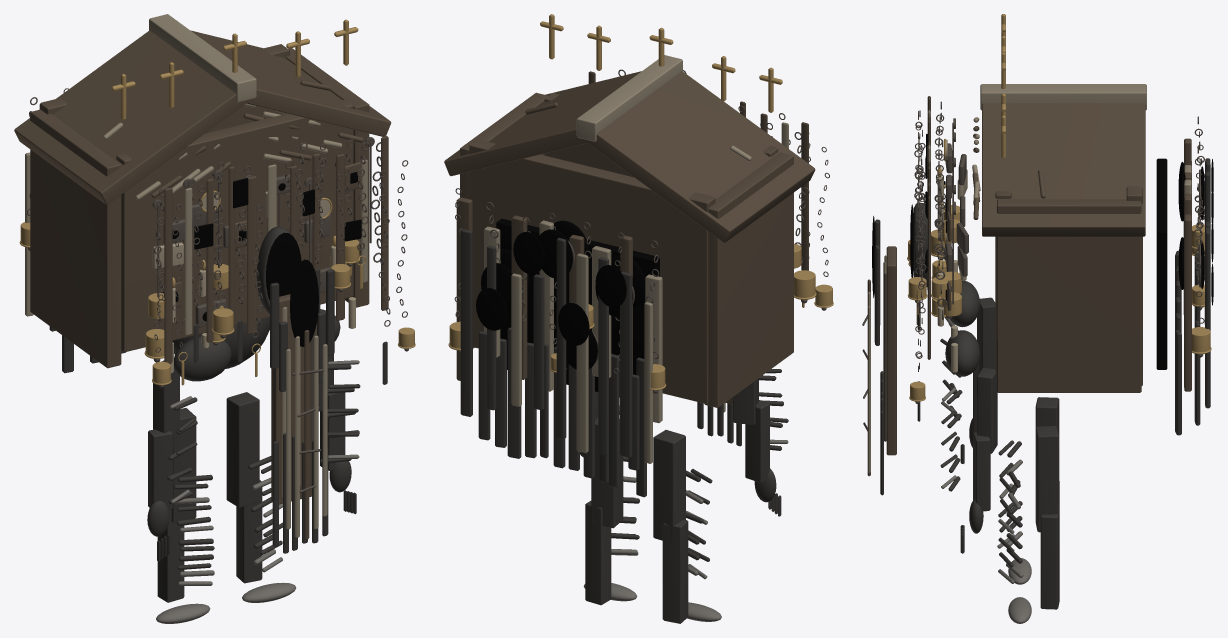
The model's file is penance_carrier_end_goal_v8_balanced_end_goal.glb.
3 renders of one model, left to right at view 1: azimuth 30°, elevation 25°; view 2: azimuth 150°, elevation 25°; view 3: azimuth 270°, elevation 25°, orthographic. The views are drawn at different scales.
Visible parts, largest first — view 1: PC_V4_shrine_front_rotten_wall, PC_V4_roof_left_steep_slab, PC_V4_shrine_left_side_wall, PC_V4_roof_right_steep_slab, PC_V6_right_wrapped_thigh, PC_V4_roof_ridge_heavy_rot, PC_V6_long_door_mask_front, PC_V4_shrine_right_side_wall, PC_V8_head_black_inner_void, PC_V6_right_wrapped_shin, PC_V4_left_long_forearm_wrapped, PC_V4_left_shoulder_under_mask (+32 smaller); view 2: PC_V4_shrine_rear_rotten_wall, PC_V4_roof_left_steep_slab, PC_V4_shrine_left_side_wall, PC_V4_roof_right_steep_slab, PC_V4_back_black_rotten_hollow, PC_V6_left_wrapped_thigh, PC_V4_roof_ridge_heavy_rot, PC_V6_left_wrapped_shin, PC_V8_back_rotten_rib_08, PC_V6_right_wrapped_shin, PC_V8_back_rotten_rib_01, PC_V8_back_rotten_rib_03 (+40 smaller); view 3: PC_V4_shrine_right_side_wall, PC_V4_roof_right_steep_slab, PC_V4_roof_ridge_heavy_rot, PC_V4_back_black_rotten_hollow, PC_V6_right_wrapped_thigh, PC_V6_long_door_mask_front, PC_V6_right_wrapped_shin, PC_V4_right_long_upper_arm_wrapped, PC_V5_back_rotten_vertical_plank_07, PC_V4_right_long_forearm_wrapped, PC_V4_left_long_upper_arm_wrapped, PC_V4_right_shoulder_under_mask (+12 smaller).
Part boxes in pixels (bbox=[...]): PC_V4_shrine_front_rotten_wall: bbox=[116, 99, 353, 352]; PC_V4_roof_left_steep_slab: bbox=[14, 30, 250, 204]; PC_V4_shrine_left_side_wall: bbox=[30, 109, 121, 368]; PC_V4_roof_right_steep_slab: bbox=[191, 30, 391, 136]; PC_V6_right_wrapped_thigh: bbox=[226, 392, 259, 507]; PC_V4_roof_ridge_heavy_rot: bbox=[149, 14, 256, 101]; PC_V6_long_door_mask_front: bbox=[271, 294, 316, 504]; PC_V4_shrine_right_side_wall: bbox=[286, 48, 369, 307]; PC_V8_head_black_inner_void: bbox=[290, 259, 318, 346]; PC_V6_right_wrapped_shin: bbox=[236, 480, 262, 583]; PC_V4_left_long_forearm_wrapped: bbox=[148, 429, 173, 509]; PC_V4_left_shoulder_under_mask: bbox=[174, 336, 231, 381]; PC_V4_shrine_rear_rotten_wall: bbox=[469, 139, 715, 403]; PC_V4_roof_left_steep_slab: bbox=[582, 71, 815, 242]; PC_V4_shrine_left_side_wall: bbox=[704, 152, 793, 407]; PC_V4_roof_right_steep_slab: bbox=[444, 71, 641, 176]; PC_V4_back_black_rotten_hollow: bbox=[496, 218, 659, 397]; PC_V6_left_wrapped_thigh: bbox=[653, 430, 685, 543]; PC_V4_roof_ridge_heavy_rot: bbox=[576, 55, 682, 141]; PC_V6_left_wrapped_shin: bbox=[662, 519, 688, 623]; PC_V8_back_rotten_rib_08: bbox=[460, 229, 472, 416]; PC_V6_right_wrapped_shin: bbox=[585, 501, 611, 605]; PC_V8_back_rotten_rib_01: bbox=[620, 271, 632, 457]; PC_V8_back_rotten_rib_03: bbox=[576, 253, 588, 453]; PC_V4_shrine_right_side_wall: bbox=[997, 199, 1141, 392]; PC_V4_roof_right_steep_slab: bbox=[982, 103, 1145, 236]; PC_V4_roof_ridge_heavy_rot: bbox=[980, 84, 1146, 110]; PC_V4_back_black_rotten_hollow: bbox=[1156, 158, 1167, 369]; PC_V6_right_wrapped_thigh: bbox=[1035, 426, 1059, 532]; PC_V6_long_door_mask_front: bbox=[886, 246, 896, 455]; PC_V6_right_wrapped_shin: bbox=[1040, 511, 1059, 609]; PC_V4_right_long_upper_arm_wrapped: bbox=[977, 368, 997, 453]; PC_V5_back_rotten_vertical_plank_07: bbox=[1184, 214, 1191, 391]; PC_V4_right_long_forearm_wrapped: bbox=[973, 432, 990, 511]; PC_V4_left_long_upper_arm_wrapped: bbox=[977, 297, 995, 372]; PC_V4_right_shoulder_under_mask: bbox=[945, 330, 979, 376].
Size of the model in its own units: 2.3 by 4.4 by 2.58.
